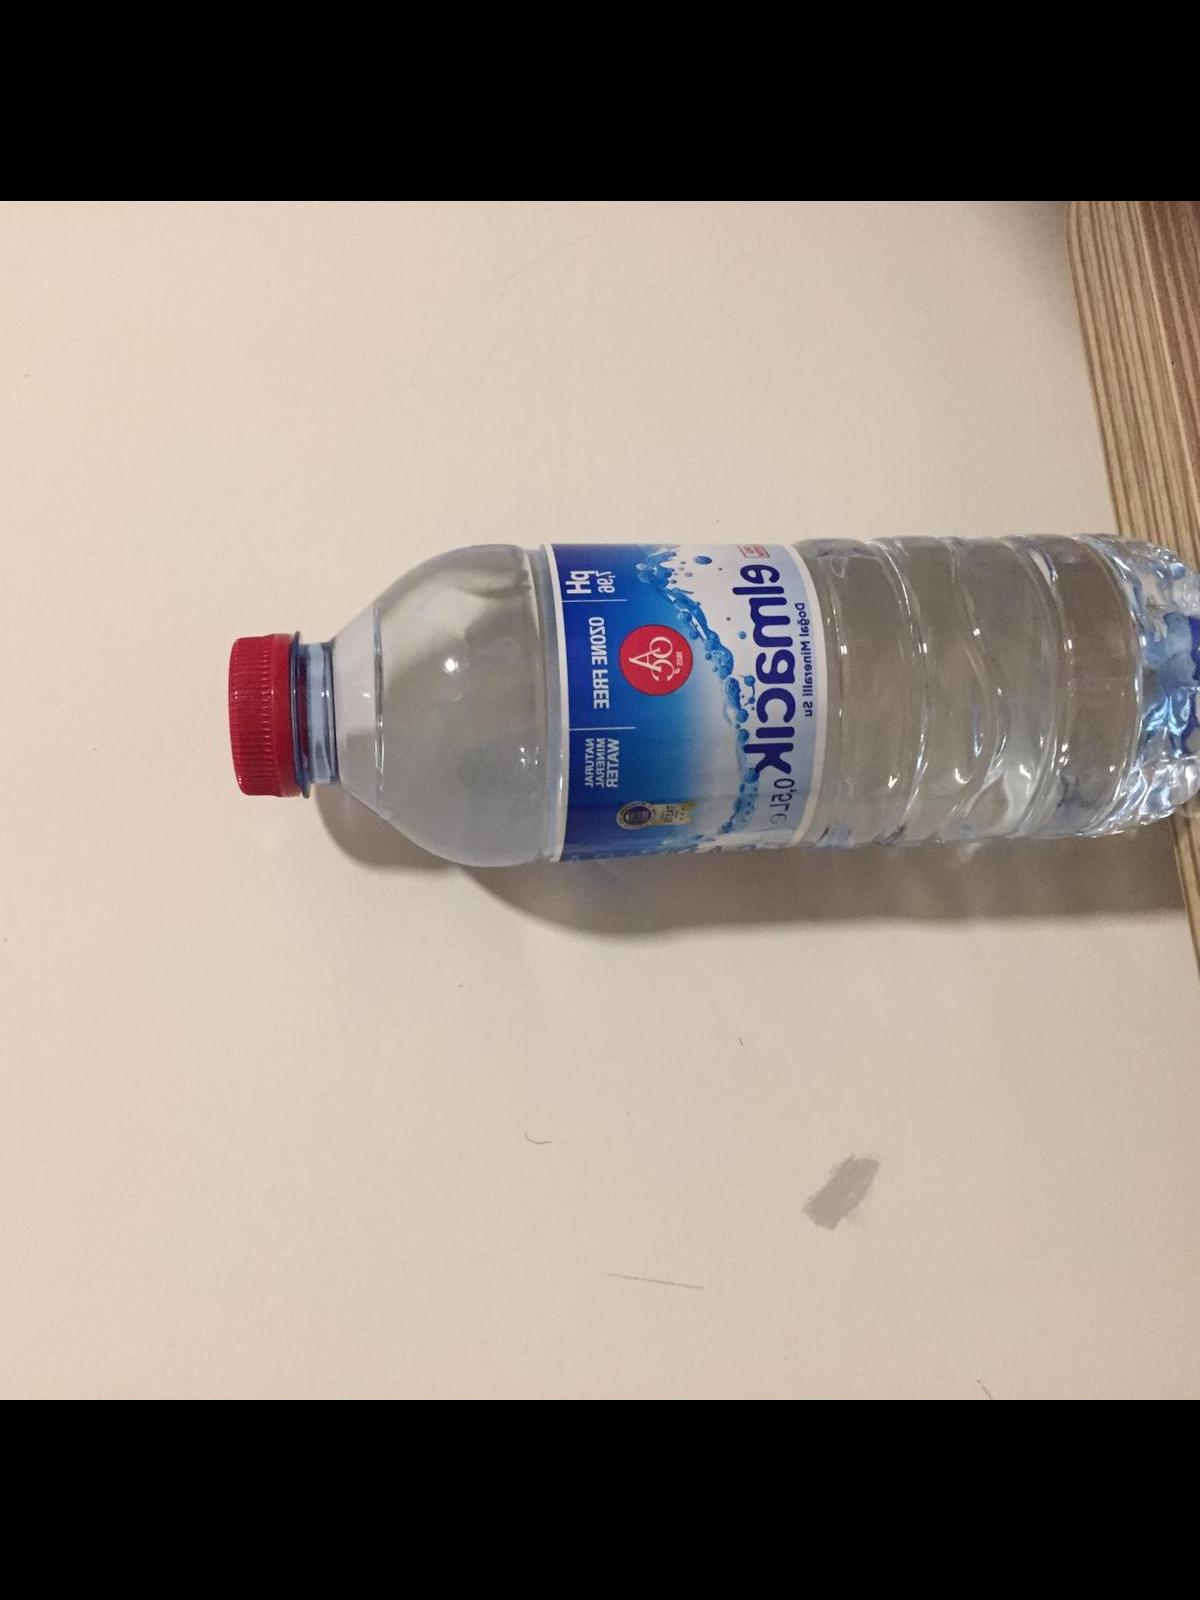bottle: (216, 544, 1200, 855)
